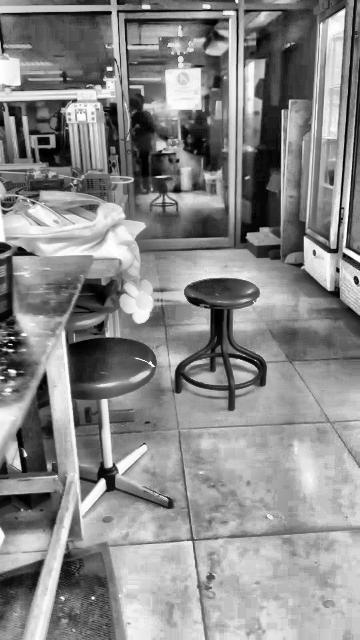pot: (0, 241, 14, 319)
